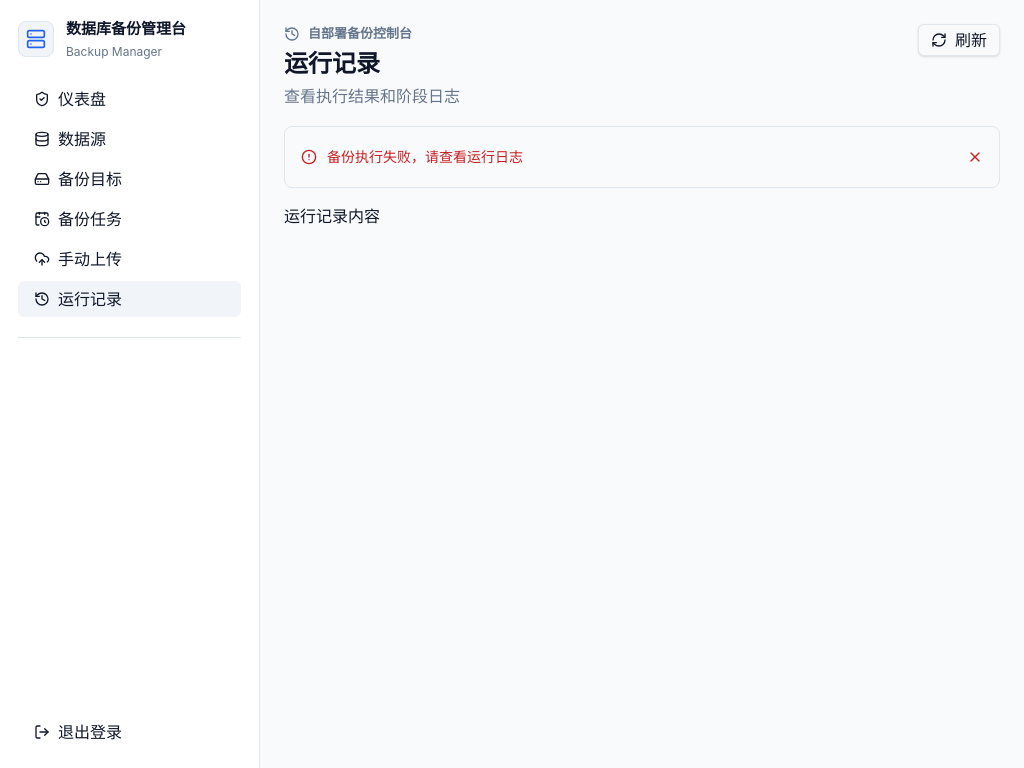
Scenario: AppShell › keeps page errors visible until the user closes them
expect the message reads "备份执行失败，请查看运行日志": met, box [327,148,523,164]
Step 1. Click the button named "关闭错误提示" → [975, 156], box [961,142,989,170]
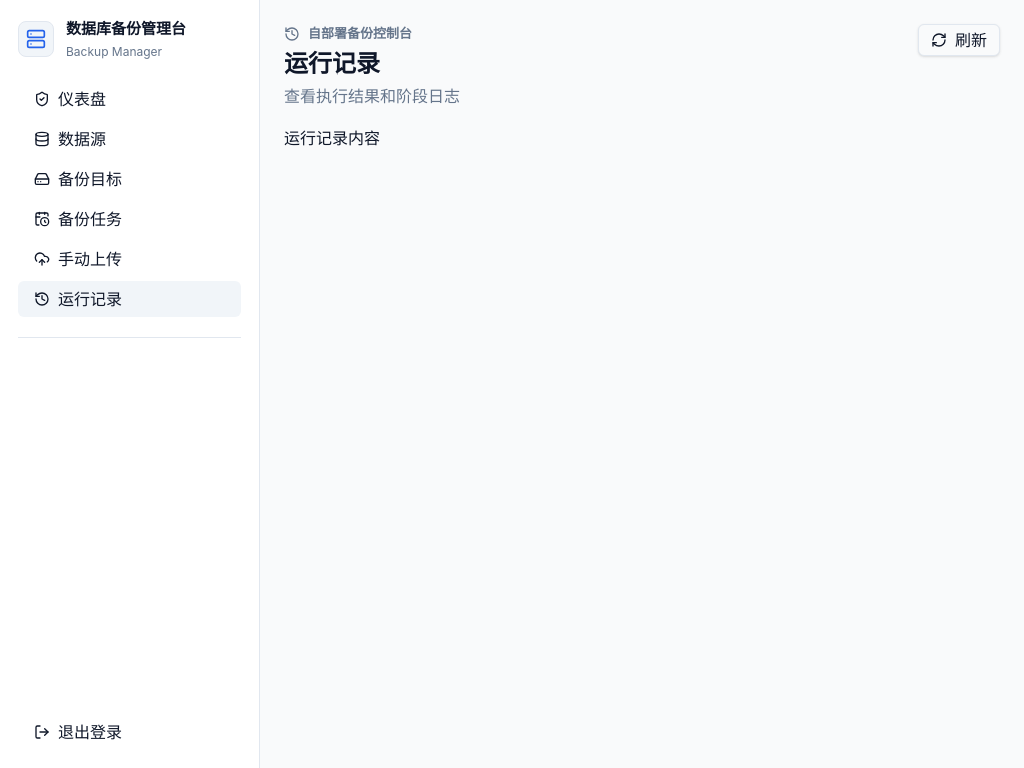
expect the message "备份执行失败，请查看运行日志" is gone: met
